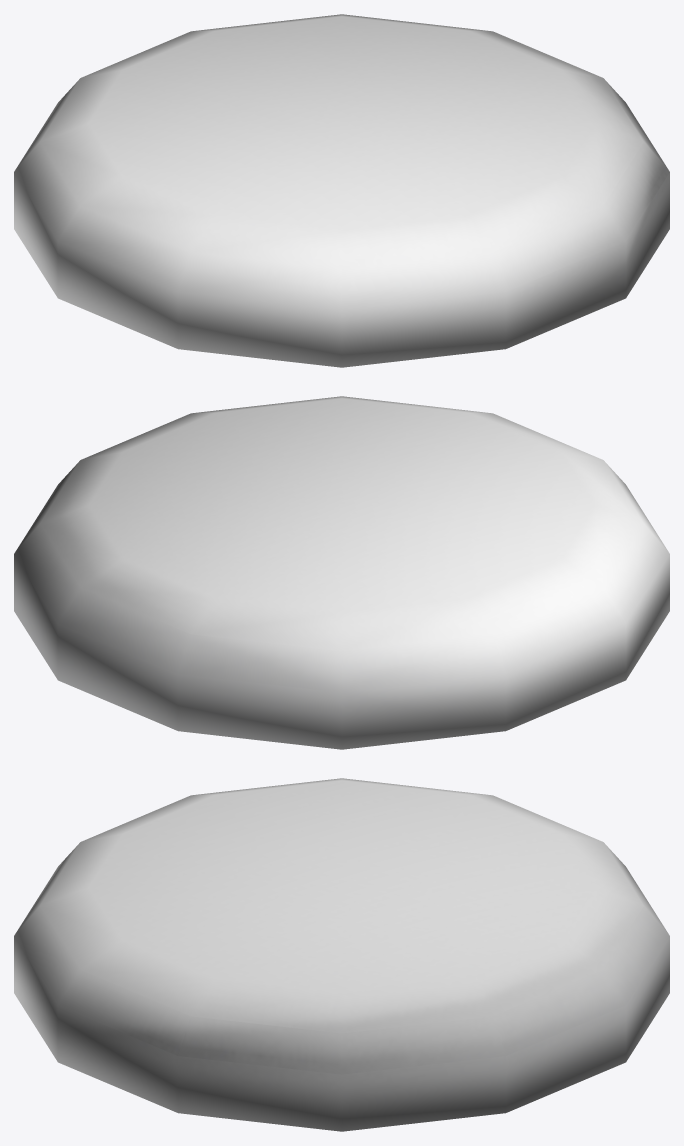
File: gameButton.obj
3 views of the same model, one above another, from view 1: azimuth 30°, elevation 25°; view 2: azimuth 150°, elevation 25°; view 3: azimuth 270°, elevation 25° (orthographic).
Parts seen in each view (by area): view 1: gameButtonLow; view 2: gameButtonLow; view 3: gameButtonLow.
Boxes of the visible parts, left/top/right/bottom form: gameButtonLow: left=14, top=14, right=669, bottom=367; gameButtonLow: left=14, top=396, right=669, bottom=749; gameButtonLow: left=14, top=778, right=669, bottom=1131.
Bounding box in the file's own units: 37.06 × 6.58 × 37.06.
Materials: 1 (1 with a texture image).
